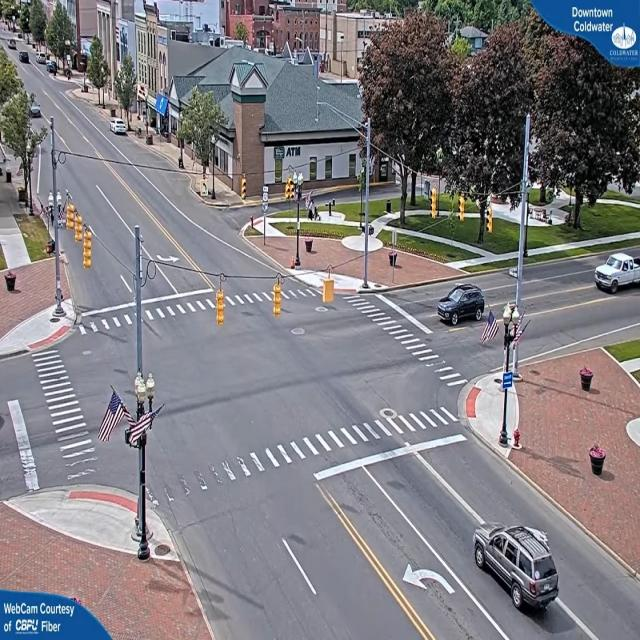car: (476, 527, 562, 616), (438, 282, 487, 327), (594, 253, 640, 295), (111, 120, 129, 136)
